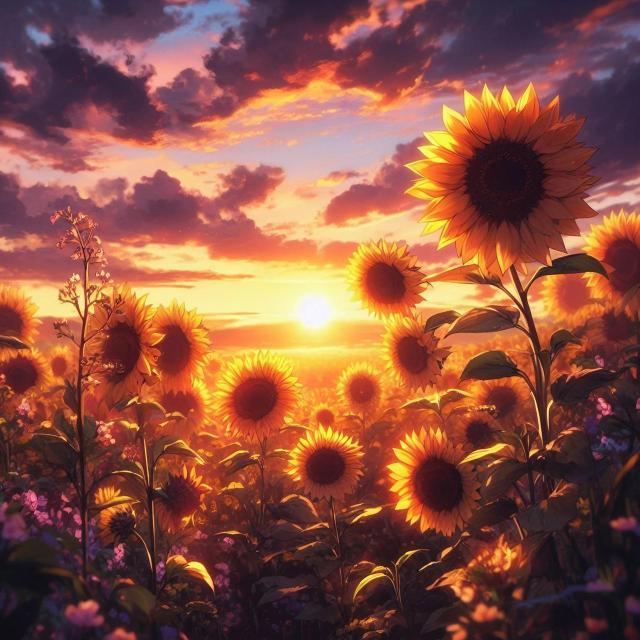sunflower: (403, 80, 601, 278), (386, 424, 482, 536), (83, 282, 166, 408), (212, 348, 302, 442), (344, 238, 428, 320), (581, 207, 639, 319), (285, 424, 365, 502), (146, 298, 212, 391), (376, 312, 452, 392), (151, 464, 211, 534), (542, 262, 604, 328), (148, 380, 214, 440), (466, 376, 533, 430), (334, 360, 390, 420), (92, 484, 142, 548), (0, 284, 42, 356), (0, 347, 50, 402), (584, 306, 638, 354), (450, 408, 504, 452), (42, 344, 76, 385)
